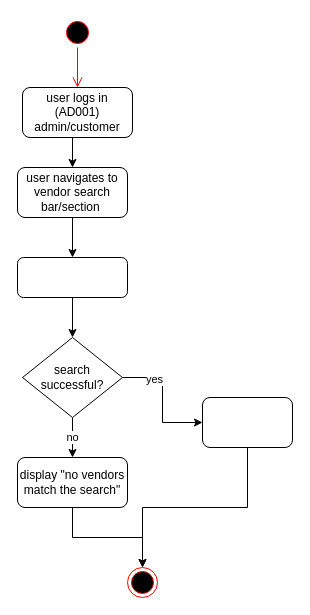
Some shapes in this 310 by 615 pixel diagram are drawn without their labels. Here are the shapes that lost their labels. From the top down, the box of each, then its label:
(16, 256, 128, 298): enter vendor name
(202, 396, 292, 448): display results
